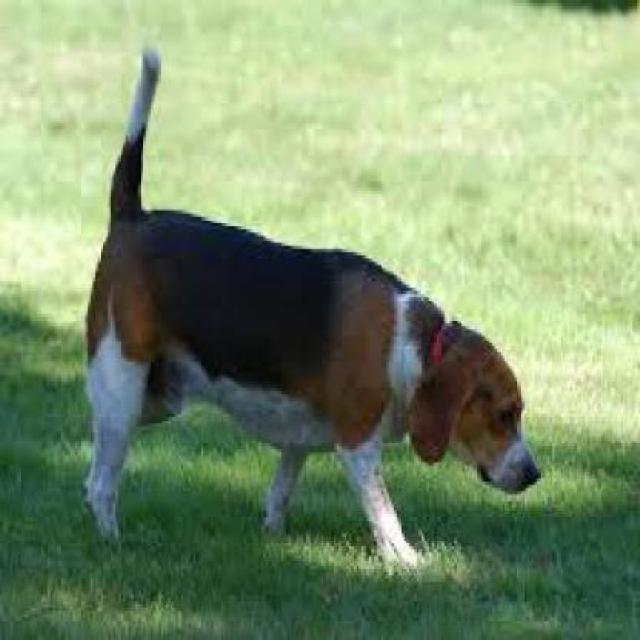Dog: (79, 43, 543, 580)
